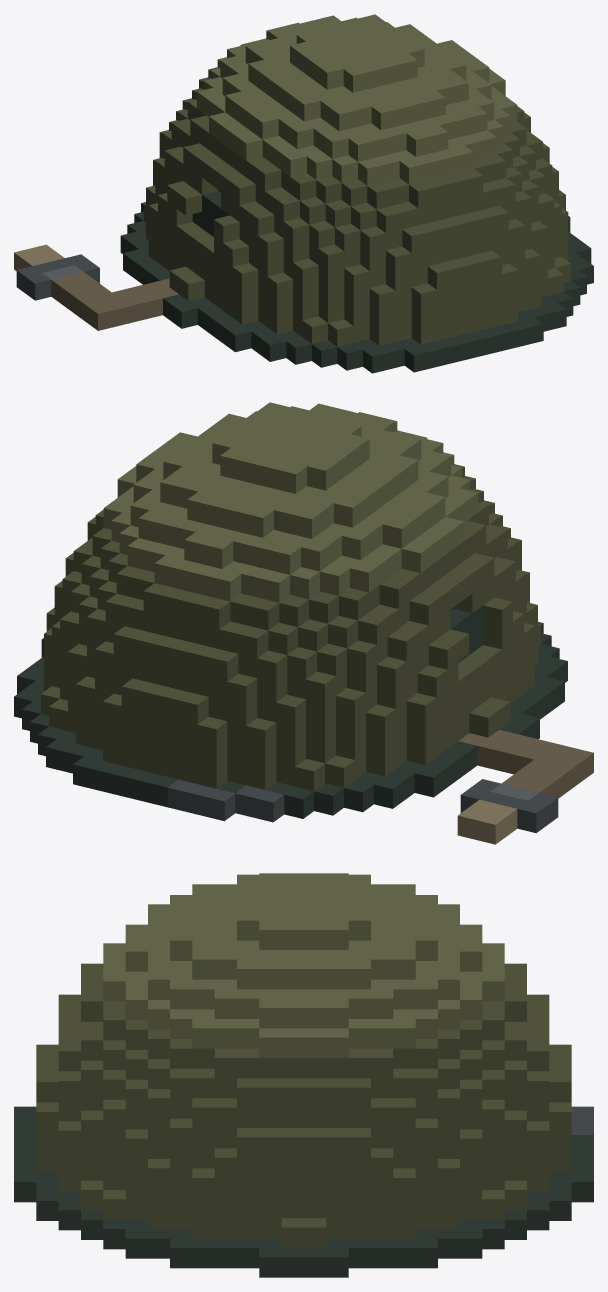
The model's file is Claude_helmet.glb.
3 renders of one model, top to bottom at view 1: azimuth 30°, elevation 25°; view 2: azimuth 150°, elevation 25°; view 3: azimuth 270°, elevation 25°, orthographic. The views are drawn at different scales.
Visible parts, largest first — view 1: Claude_helmet; view 2: Claude_helmet; view 3: Claude_helmet.
Boxes of the visible parts, x1,y1,x2,y2 form: Claude_helmet: [14, 14, 593, 373]; Claude_helmet: [14, 402, 593, 844]; Claude_helmet: [14, 873, 593, 1277].
Size of the model in its own units: 0.3625 by 0.1625 by 0.325.
